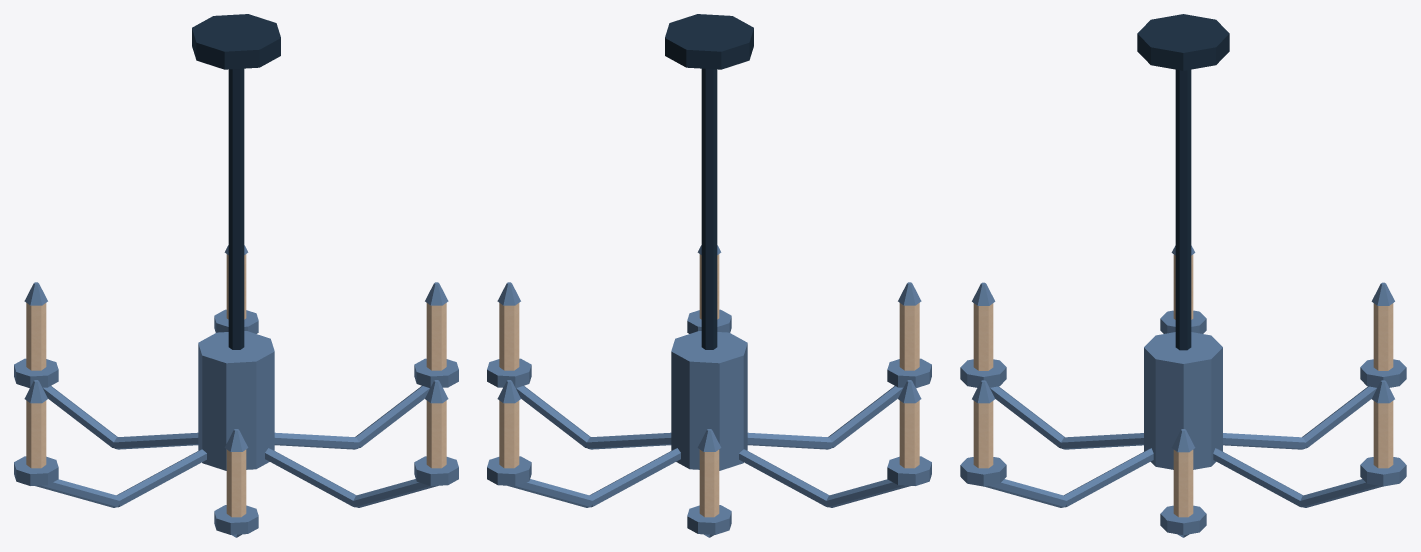
The model's file is Chandelier.fbx.
3 views of the same model, side by side, from view 1: azimuth 30°, elevation 25°; view 2: azimuth 150°, elevation 25°; view 3: azimuth 270°, elevation 25° (orthographic).
Visible parts, largest first — view 1: Chandelier; view 2: Chandelier; view 3: Chandelier.
Boxes of the visible parts, x1,y1,x2,y2 form: Chandelier: [14, 14, 458, 537]; Chandelier: [487, 14, 931, 537]; Chandelier: [960, 14, 1406, 537].
Size of the model in its own units: 0.77 by 0.7446 by 0.6762.
1 material, 1 textured.
